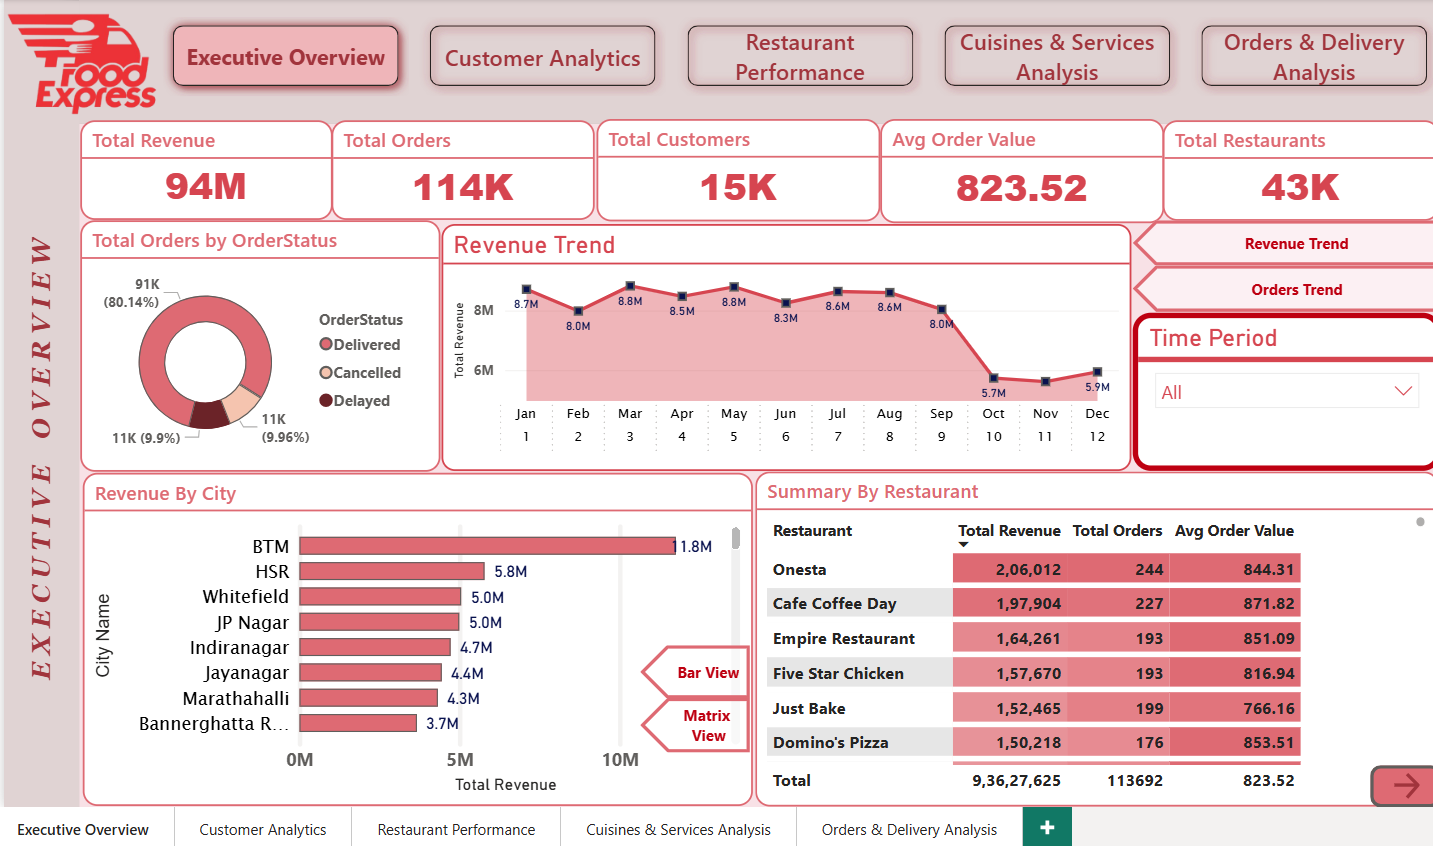

The page's visual inventory and layout, read from the dashboard file:
{"tool":"powerbi","page":{"name":"Executive Overview","canvas":[1280,720],"ordinal":0},"visuals":[{"type":"card","title":"Total Orders","fields":{"Values":["Orders.Total Orders"]},"box":[241.4,82.5,247.1,114.3],"z":0,"group":"g1"},{"type":"stackedAreaChart","title":"Revenue Trend","fields":{"Y":["Orders.Total Revenue"],"Category":["DateTable.MonthNo"]},"box":[0,200,640,204.3],"z":0},{"type":"group","id":"g1","title":"Group 1","box":[0,81.4,1280,117.1],"z":1000},{"type":"card","title":"Total Revenue","fields":{"Values":["Orders.Total Revenue"]},"box":[0,81.4,241.9,116.1],"z":1000,"group":"g1"},{"type":"slicer","title":"Time Period","fields":{"Values":["DateTable.Year Hierarchy.Year","DateTable.Year Hierarchy.Quarter","DateTable.Year Hierarchy.MonthNo","DateTable.Year Hierarchy.Date"]},"box":[639.5,267.1,300.2,137.6],"z":1000,"group":"g2"},{"type":"card","title":"Total Customers","fields":{"Values":["Orders.Total Customers"]},"box":[487.9,82.4,266.3,116.1],"z":2000,"group":"g1"},{"type":"card","title":"Avg Order Value","fields":{"Values":["Orders.Avg Order Value"]},"box":[754.2,82.4,266.3,116.1],"z":3000,"group":"g1"},{"type":"group","id":"g2","title":"Group 4","box":[639.5,205.2,300.2,199.4],"z":3000},{"type":"clusteredBarChart","title":"Revenue By City","fields":{"Category":["Customers.FilterCity"],"Y":["Orders.Total Revenue"]},"box":[0,404.1,639.5,316.7],"z":3000,"group":"g4"},{"type":"pageNavigator","box":[0,0,1280.3,81.9],"z":4000},{"type":"card","title":"Total Restaurants","fields":{"Values":["Orders.Total Restaurants"]},"box":[1020.5,82.4,259.5,116.1],"z":4000,"group":"g1"},{"type":"actionButton","box":[646.2,207.6,157.7,59.9],"z":4000,"group":"g3"},{"type":"textbox","box":[813.4,217.4,102.5,35.8],"z":4000,"group":"g5"},{"type":"textbox","box":[534,555.8,87.1,30],"z":4000,"group":"g7"},{"type":"actionButton","box":[503.7,588.4,135,64.8],"z":4000,"group":"g6"},{"type":"donutChart","fields":{"Category":["Orders.OrderStatus"],"Y":["Orders.Total Orders"]},"box":[940,200,340,205],"z":5000},{"type":"textbox","box":[665.5,217.4,109.8,35.8],"z":5000,"group":"g5"},{"type":"textbox","box":[529.2,605.2,90.8,30],"z":5000,"group":"g6"},{"type":"group","id":"g3","title":"Group 2","box":[646.2,205.2,293.6,62.3],"z":7000,"group":"g5"},{"type":"actionButton","box":[788.9,205.2,150.9,61.4],"z":7000,"group":"g3"},{"type":"group","id":"g4","title":"Group 7","box":[0,404.1,639.5,316.7],"z":7000},{"type":"actionButton","box":[502.3,538.6,131.6,61.1],"z":7000,"group":"g7"},{"type":"group","id":"g5","title":"Group 3","box":[646.2,205.2,293.6,62.3],"z":7001,"group":"g2"},{"type":"pivotTable","title":"Summary By Restaurant","fields":{"Values":["Orders.Total Revenue","Orders.Total Orders","Orders.Avg Order Value"],"Rows":["Restaurants.Restaurant Name Filtered"]},"box":[634.7,403.5,645.7,316.7],"z":8000},{"type":"group","id":"g6","title":"Group 5","box":[503.7,588.4,129.3,64.8],"z":8000,"group":"g8"},{"type":"group","id":"g7","title":"Group 6","box":[502.3,538.6,137.3,61.1],"z":9000,"group":"g8"},{"type":"actionButton","box":[1214.3,679.9,66,40.4],"z":9000},{"type":"group","id":"g8","title":"Group 9","box":[502.3,538.6,137.3,114.6],"z":9003,"group":"g4"}]}

Visuals, with their boxes on the page's 1280x720 design canvas (x1, y1, x2, y2). These are canvas units, not pixel positions in the 1433x846 screenshot, which may show the page scaled, cropped or inside an application window:
"Total Orders" card: left=241, top=82, right=488, bottom=197
"Revenue Trend" stackedAreaChart: left=0, top=200, right=640, bottom=404
"Group 1" group: left=0, top=81, right=1280, bottom=198
"Total Revenue" card: left=0, top=81, right=242, bottom=198
"Time Period" slicer: left=640, top=267, right=940, bottom=405
"Total Customers" card: left=488, top=82, right=754, bottom=198
"Avg Order Value" card: left=754, top=82, right=1020, bottom=198
"Group 4" group: left=640, top=205, right=940, bottom=405
"Revenue By City" clusteredBarChart: left=0, top=404, right=640, bottom=721
pageNavigator: left=0, top=0, right=1280, bottom=82
"Total Restaurants" card: left=1020, top=82, right=1280, bottom=198
actionButton: left=646, top=208, right=804, bottom=268
textbox: left=813, top=217, right=916, bottom=253
textbox: left=534, top=556, right=621, bottom=586
actionButton: left=504, top=588, right=639, bottom=653
donutChart - Orders.OrderStatus x Orders.Total Orders: left=940, top=200, right=1280, bottom=405
textbox: left=666, top=217, right=775, bottom=253
textbox: left=529, top=605, right=620, bottom=635
"Group 2" group: left=646, top=205, right=940, bottom=268
actionButton: left=789, top=205, right=940, bottom=267
"Group 7" group: left=0, top=404, right=640, bottom=721
actionButton: left=502, top=539, right=634, bottom=600
"Group 3" group: left=646, top=205, right=940, bottom=268
"Summary By Restaurant" pivotTable: left=635, top=404, right=1280, bottom=720
"Group 5" group: left=504, top=588, right=633, bottom=653
"Group 6" group: left=502, top=539, right=640, bottom=600
actionButton: left=1214, top=680, right=1280, bottom=720
"Group 9" group: left=502, top=539, right=640, bottom=653
